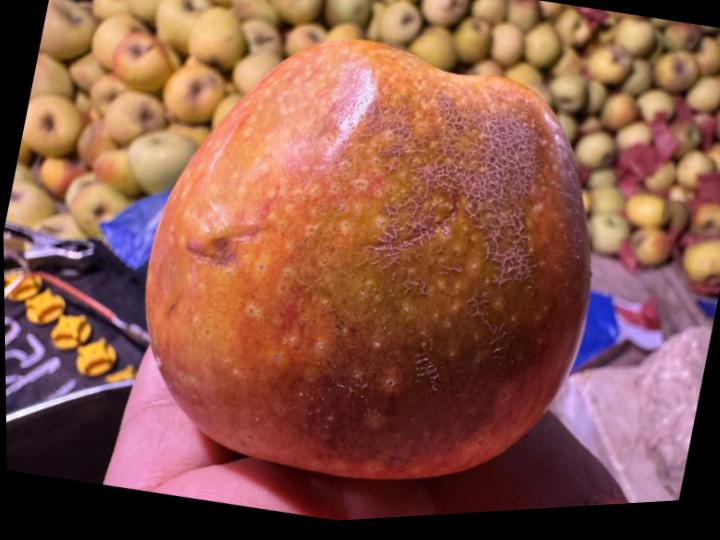apple: (147, 40, 590, 478)
surface_damage: (177, 61, 546, 301)
